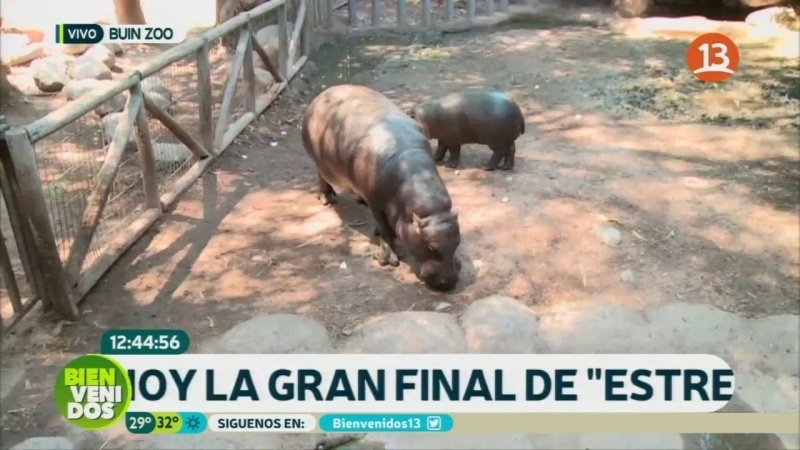hipopotamo: (294, 78, 466, 296), (403, 73, 534, 177)
